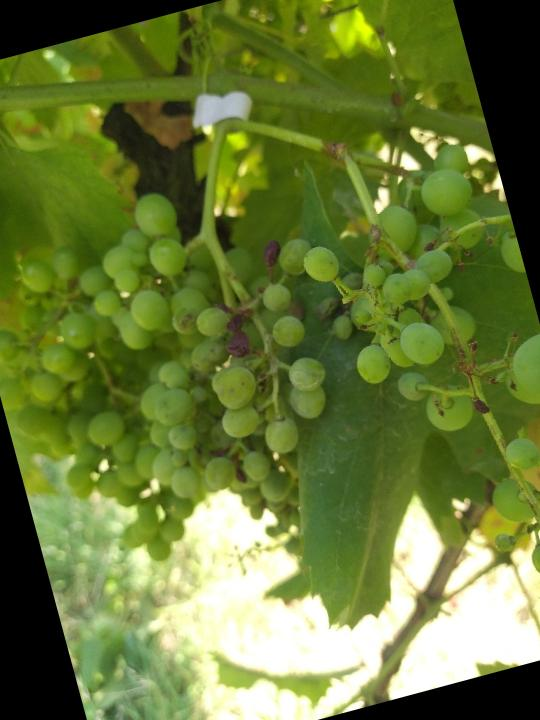grape: (61, 158, 375, 540)
